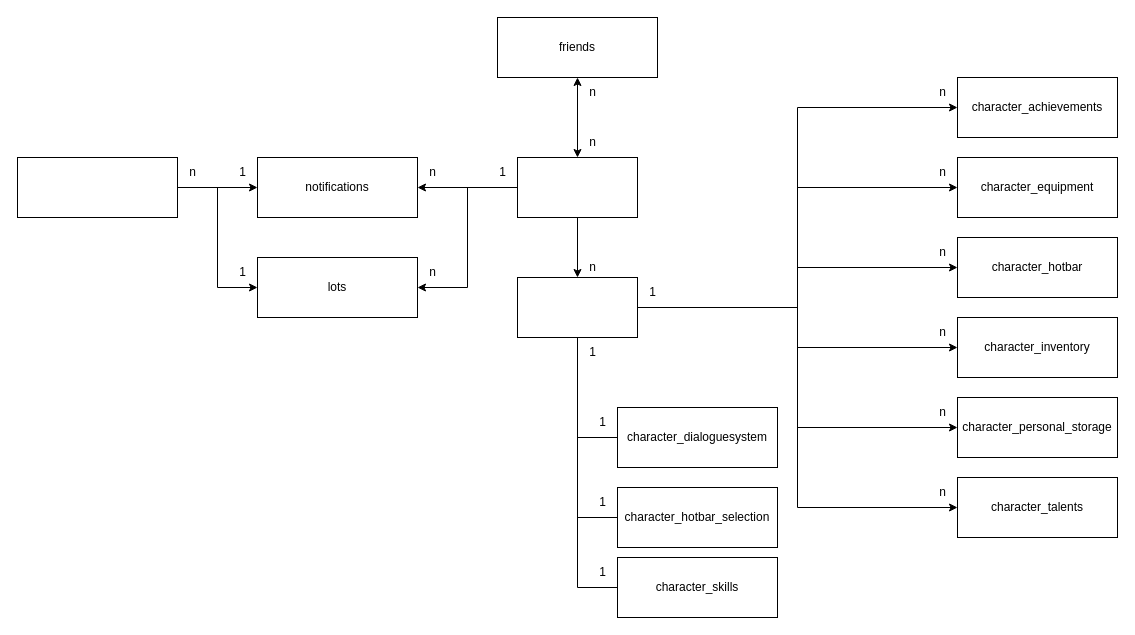
Some shapes in this 1135 by 635 pixel diagram are drawn without their labels. Each missing label, with the centre of its shape:
accounts: the point at 577,187
characters: the point at 577,307
claim_items: the point at 97,187
